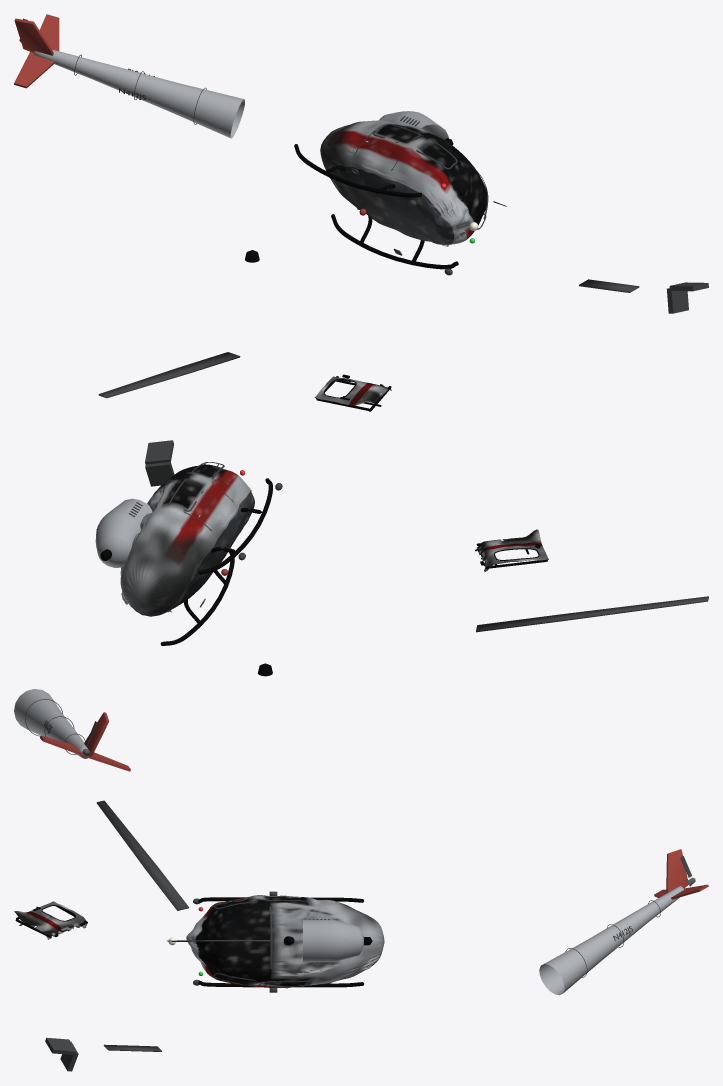
The model's file is helicopter_wreck.glb.
The picture shows the model from 3 angles, top to bottom: view 1: azimuth 30°, elevation 25°; view 2: azimuth 150°, elevation 25°; view 3: azimuth 270°, elevation 25°; orthographic projection. The views are drawn at different scales.
Parts seen in each view (by area): view 1: Fuselage, Boom, WreckDoor, Blade, Cowl, Fin, WreckSeat, Stab, Skid, Skid.001; view 2: Fuselage, Cowl, Boom, Blade, WreckDoor, WreckSeat, Skid, Skid.001; view 3: Fuselage, Boom, Cowl, Blade, WreckDoor, Fin, WreckSeat, Skid.001.
Boxes of the visible parts, <box> form: Fuselage: <box>320,120,486,246</box>; Boom: <box>33,49,244,138</box>; WreckDoor: <box>314,374,391,411</box>; Blade: <box>98,352,240,398</box>; Cowl: <box>379,111,448,139</box>; Fin: <box>14,18,53,55</box>; WreckSeat: <box>667,282,708,313</box>; Stab: <box>14,51,54,88</box>; Skid: <box>294,144,421,197</box>; Skid.001: <box>331,214,458,269</box>; Fuselage: <box>120,464,254,616</box>; Cowl: <box>95,498,152,567</box>; Boom: <box>14,689,87,758</box>; Blade: <box>476,596,708,632</box>; WreckDoor: <box>475,529,548,571</box>; WreckSeat: <box>145,440,174,486</box>; Skid: <box>198,478,272,574</box>; Skid.001: <box>160,548,234,645</box>; Fuselage: <box>186,895,384,988</box>; Boom: <box>539,886,684,995</box>; Cowl: <box>302,919,363,962</box>; Blade: <box>96,800,188,910</box>; WreckDoor: <box>14,901,87,939</box>; Fin: <box>666,849,688,892</box>; WreckSeat: <box>45,1037,78,1071</box>; Skid.001: <box>198,980,363,987</box>.
Size of the model in its own units: 13.39 by 2.82 by 16.24.
